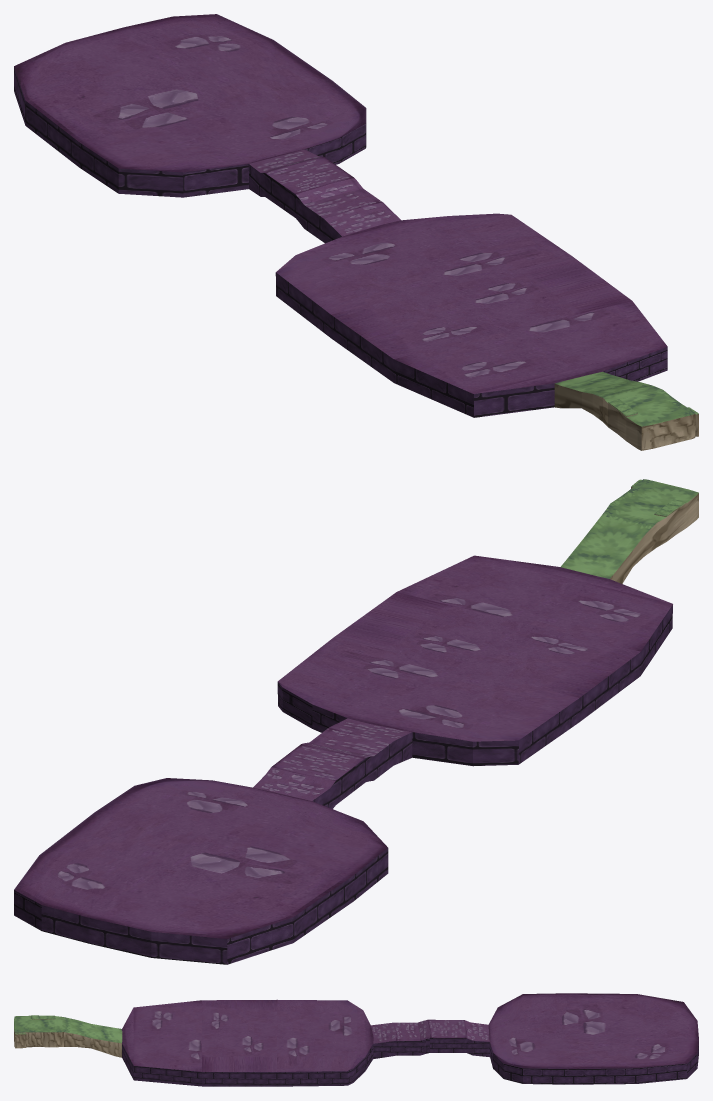
Rendered from BOSS.fbx.
3 renders of one model, top to bottom at view 1: azimuth 30°, elevation 25°; view 2: azimuth 150°, elevation 25°; view 3: azimuth 270°, elevation 25°, orthographic. The views are drawn at different scales.
Parts seen in each view (by area): view 1: 地板; view 2: 地板; view 3: 地板.
Boxes of the visible parts, box(x1,y1,x2,y2) form: 地板: box(14, 14, 698, 450); 地板: box(14, 479, 698, 964); 地板: box(14, 993, 698, 1086).
Size of the model in its own units: 7793 by 1326 by 29354.
5 materials, 5 textured.
